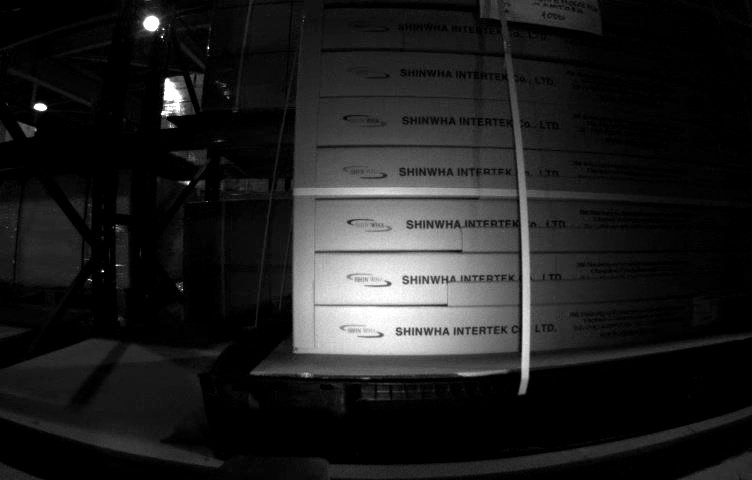True Barcode: (691, 296, 716, 327)
